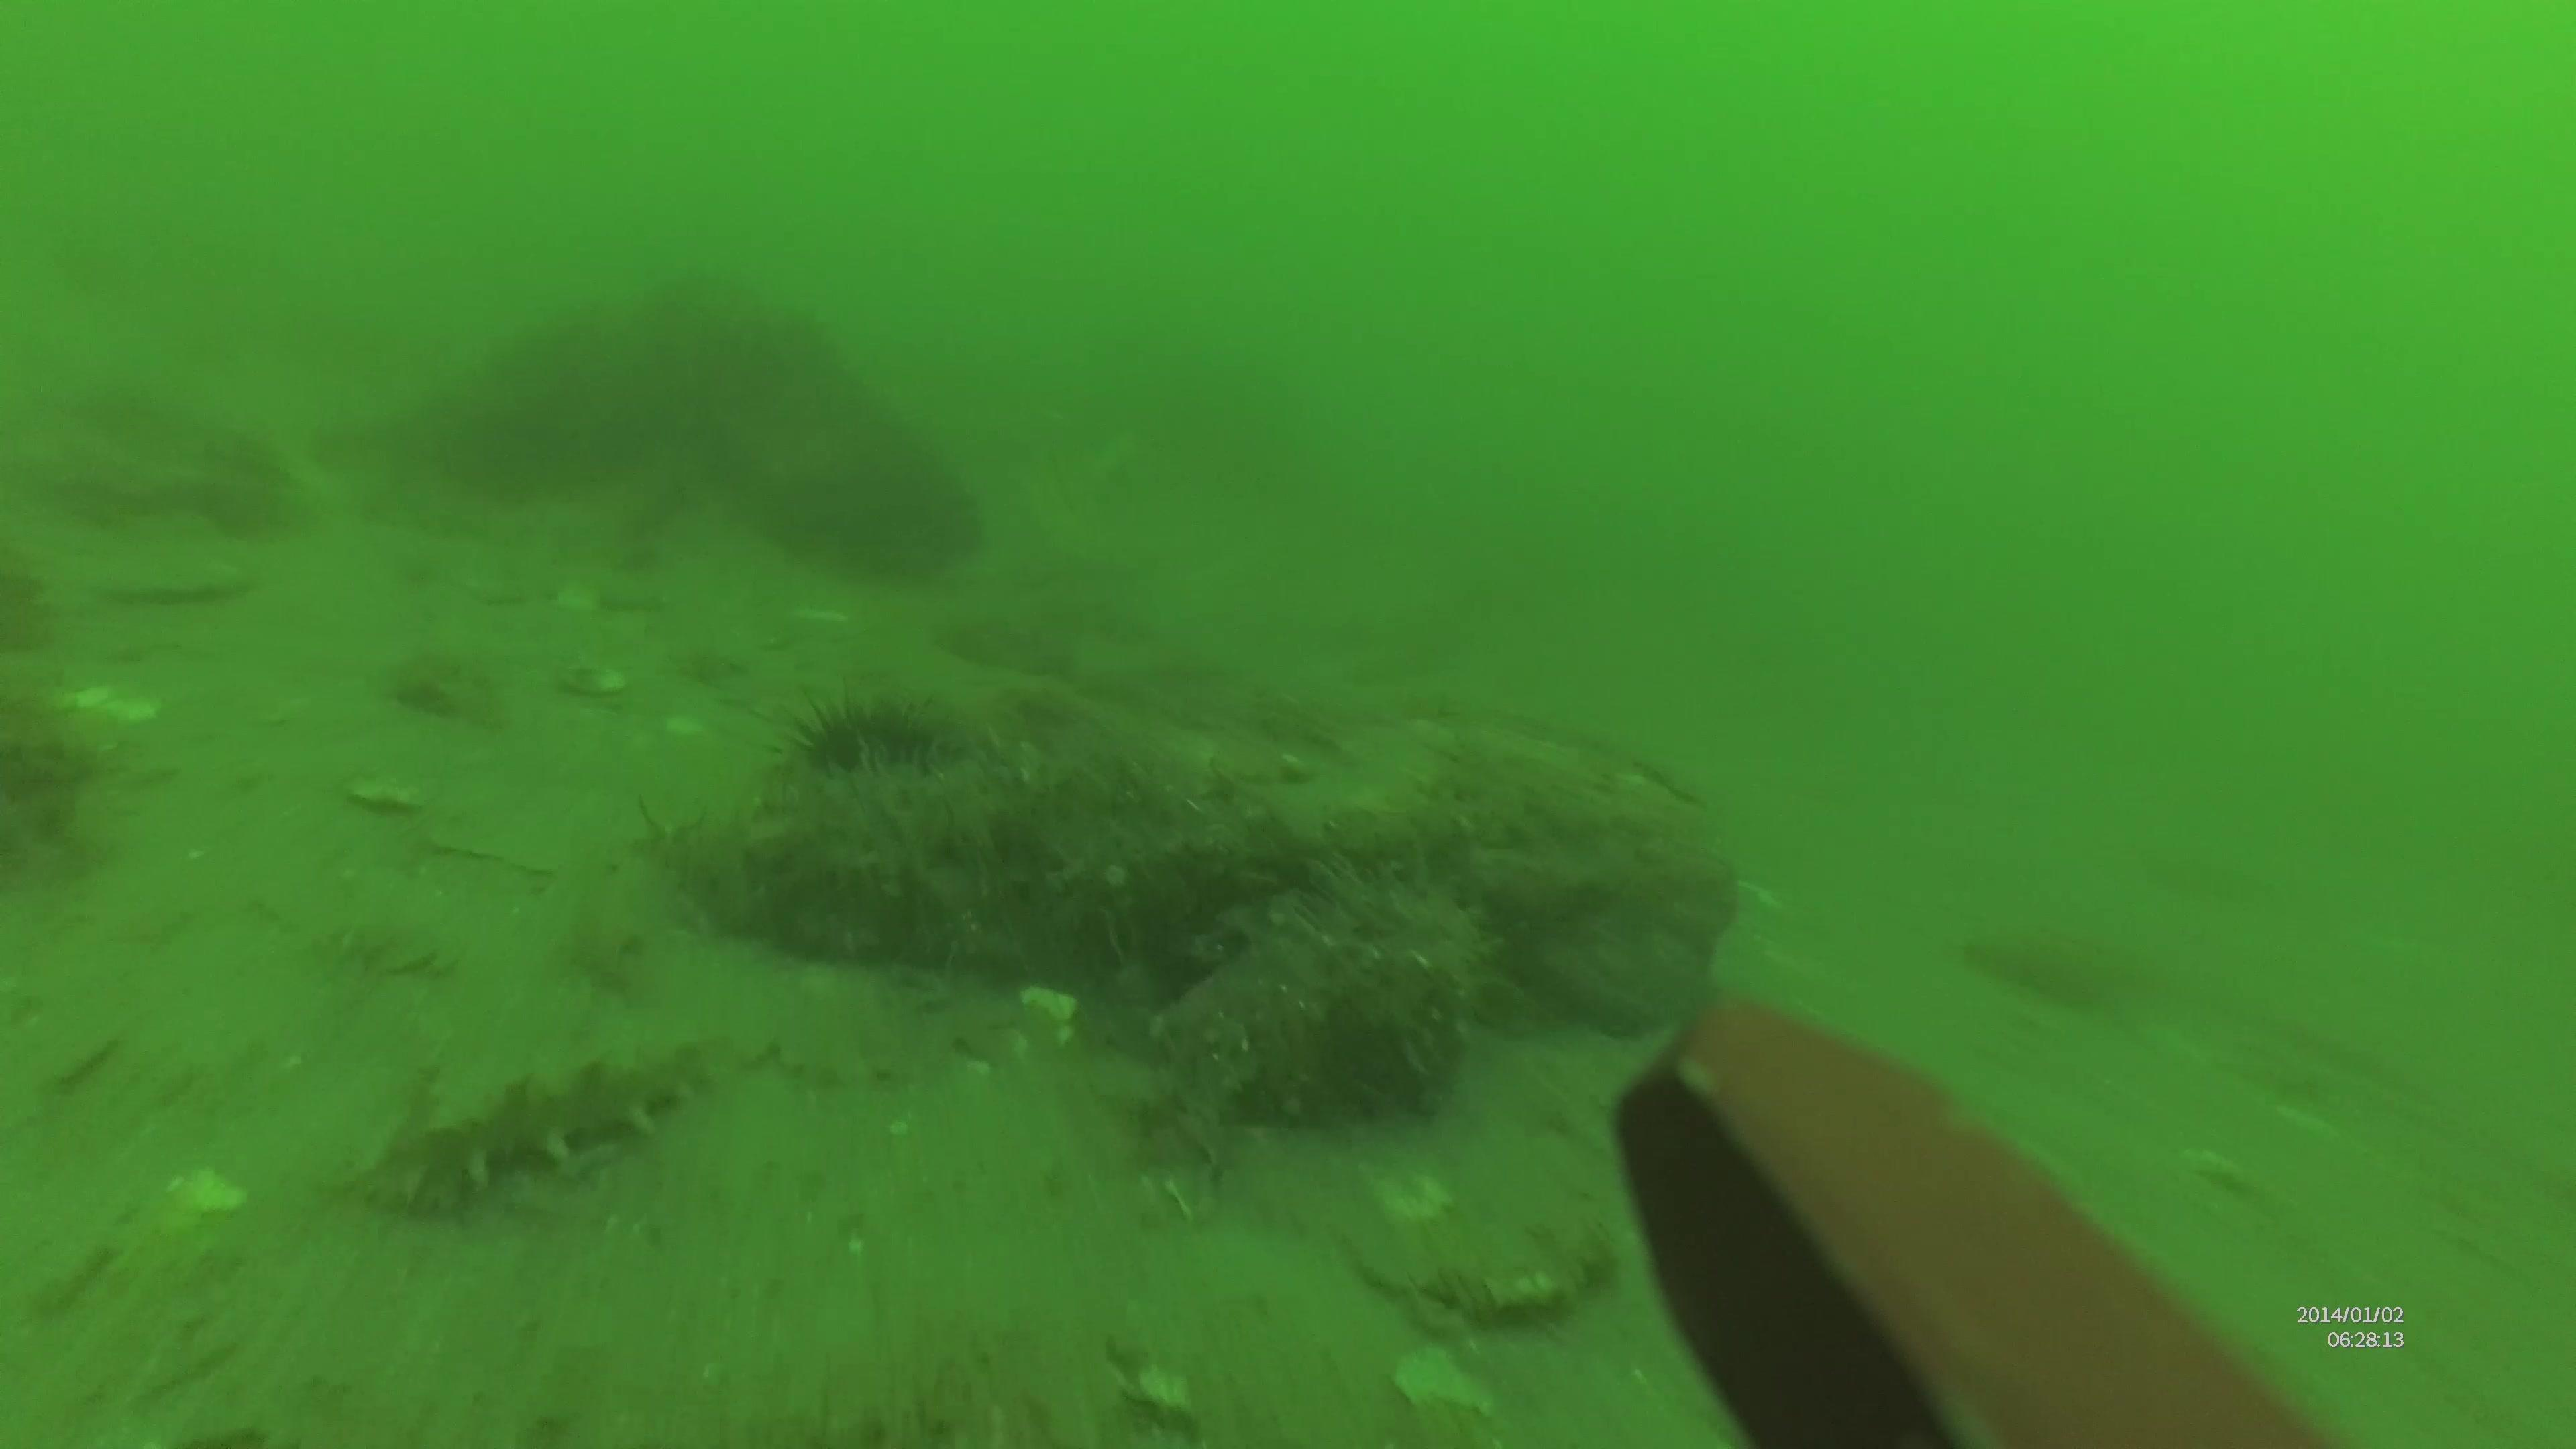echinus: (1309, 832, 1523, 1040), (771, 669, 1019, 791)
holothurian: (368, 1040, 747, 1217)
